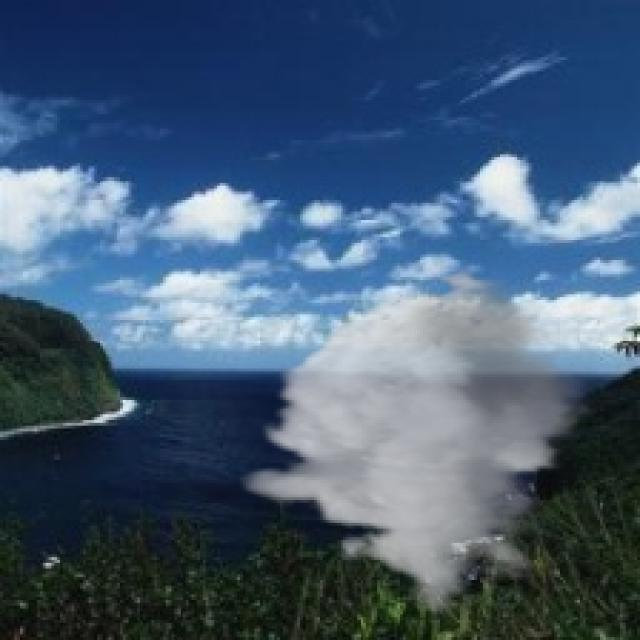smoke: (237, 266, 597, 614)
